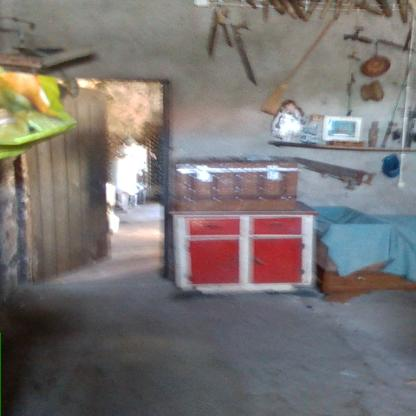semi: (4, 62, 190, 286)
